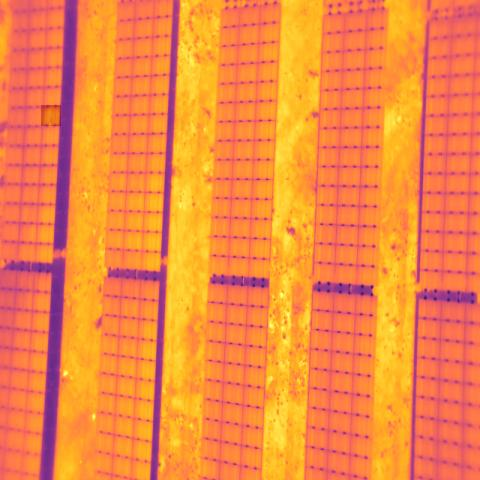fault: (41, 105, 61, 126)
